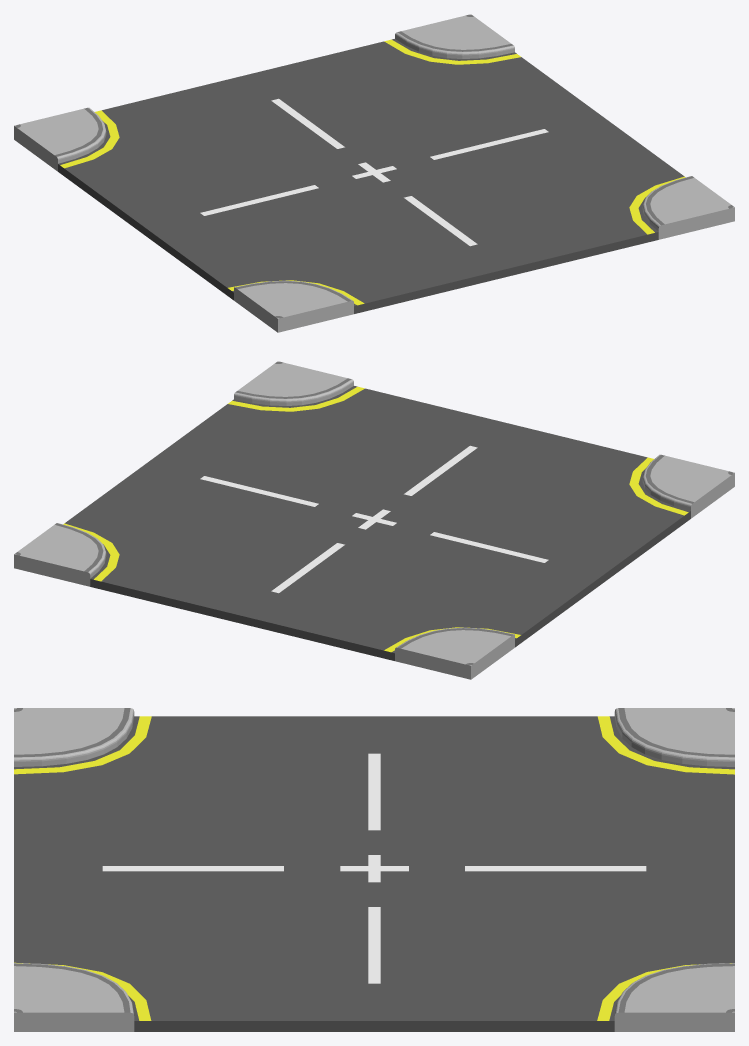
Rendered from SM_Road_Crossroads_Four_01.FBX.
3 renders of one model, top to bottom at view 1: azimuth 30°, elevation 25°; view 2: azimuth 150°, elevation 25°; view 3: azimuth 270°, elevation 25°, orthographic. The views are drawn at different scales.
Visible parts, largest first — view 1: SM_Road_Crossroads_Four_01; view 2: SM_Road_Crossroads_Four_01; view 3: SM_Road_Crossroads_Four_01.
Part boxes in pixels (x1=…): SM_Road_Crossroads_Four_01: x1=14, y1=14, x2=734, y2=332; SM_Road_Crossroads_Four_01: x1=14, y1=361, x2=734, y2=679; SM_Road_Crossroads_Four_01: x1=14, y1=708, x2=734, y2=1031.
Bounding box in the file's own units: 6 × 0.175 × 6.
Materials: 1 (1 with a texture image).
